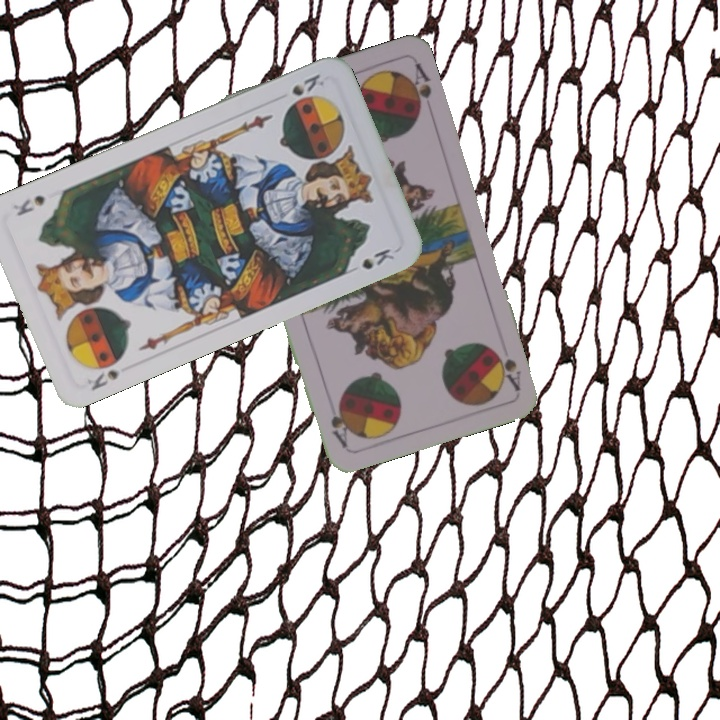SA: (489, 344, 524, 393)
SK: (287, 69, 327, 99), (82, 365, 122, 393)
